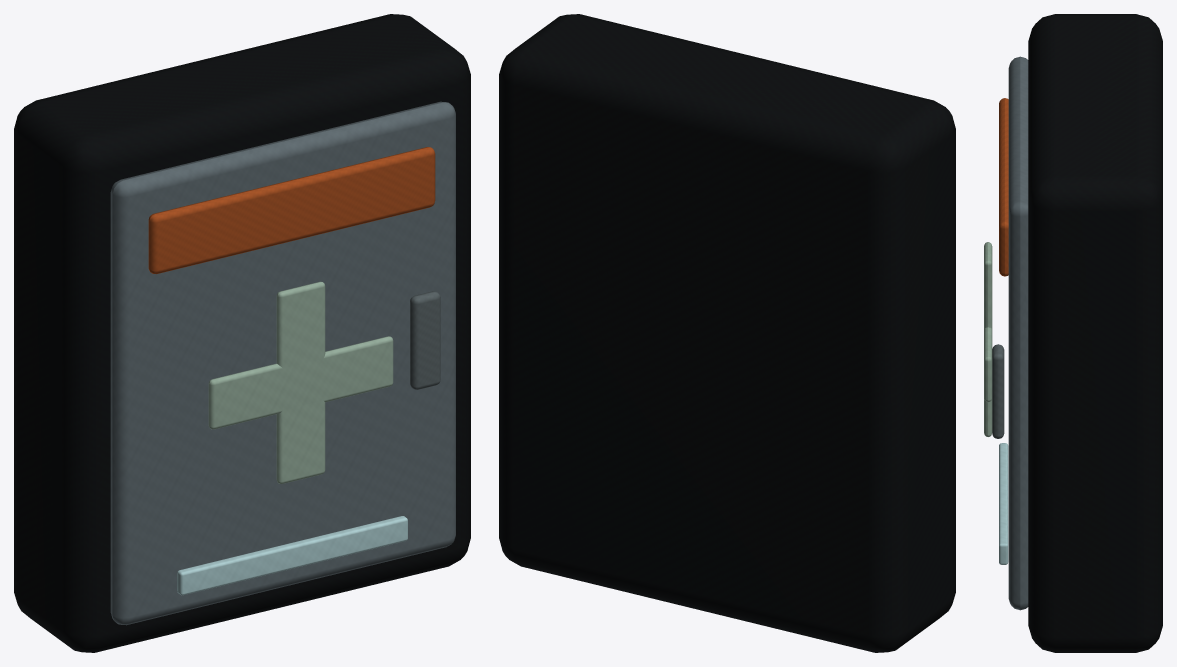
File: FirstAidCase.fbx
3 renders of one model, left to right at view 1: azimuth 30°, elevation 25°; view 2: azimuth 150°, elevation 25°; view 3: azimuth 270°, elevation 25°, orthographic. The views are drawn at different scales.
Parts seen in each view (by area): view 1: FirstAidCase_Mesh; view 2: FirstAidCase_Mesh; view 3: FirstAidCase_Mesh.
Boxes of the visible parts, x1=… form: FirstAidCase_Mesh: x1=14, y1=14, x2=470, y2=652; FirstAidCase_Mesh: x1=499, y1=14, x2=955, y2=652; FirstAidCase_Mesh: x1=984, y1=14, x2=1162, y2=652.
Size of the model in its own units: 64 by 78 by 26.6.
